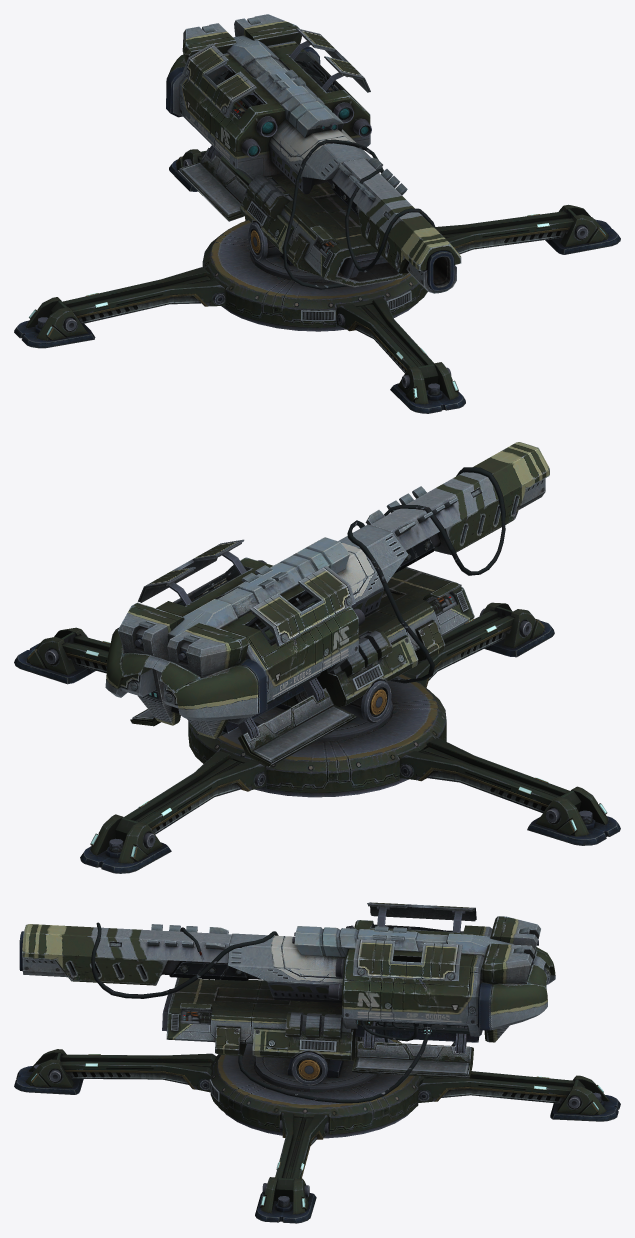
The model's file is planetside_2_prototype_weapon.glb.
3 views of the same model, one above another, from view 1: azimuth 30°, elevation 25°; view 2: azimuth 150°, elevation 25°; view 3: azimuth 270°, elevation 25° (orthographic). The views are drawn at different scales.
Visible parts, largest first — view 1: Mesh0_0; view 2: Mesh0_0; view 3: Mesh0_0.
Boxes of the visible parts, x1,y1,x2,y2 form: Mesh0_0: (14, 14, 620, 413); Mesh0_0: (14, 442, 620, 873); Mesh0_0: (14, 902, 620, 1223).
Size of the model in its own units: 6.93 by 2.22 by 6.93.
Materials: 1 (1 with a texture image).
